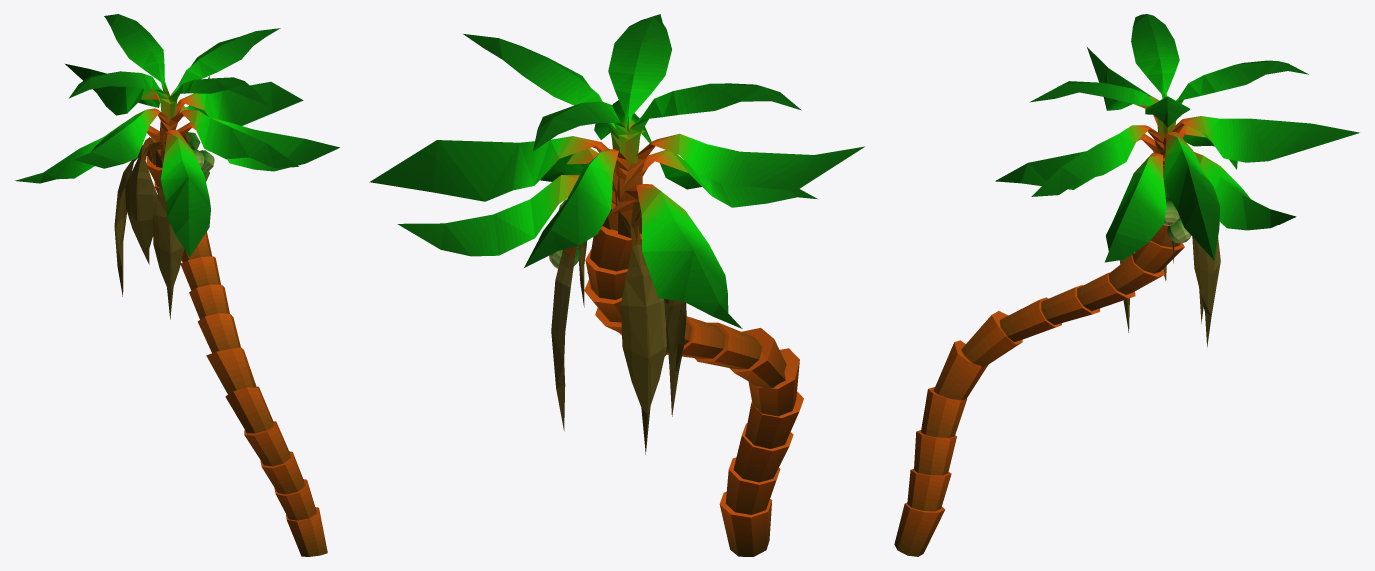
File: StrangeCoconutTreeCurved.fbx
3 views of the same model, side by side, from view 1: azimuth 30°, elevation 25°; view 2: azimuth 150°, elevation 25°; view 3: azimuth 270°, elevation 25° (orthographic). The views are drawn at different scales.
Visible parts, largest first — view 1: CurveCoconutLeave, CurveCoconutBark; view 2: CurveCoconutLeave, CurveCoconutBark; view 3: CurveCoconutLeave, CurveCoconutBark.
Part boxes in pixels (bbox=[...]): CurveCoconutLeave: bbox=[15, 14, 339, 319]; CurveCoconutBark: bbox=[146, 156, 327, 556]; CurveCoconutLeave: bbox=[369, 14, 864, 454]; CurveCoconutBark: bbox=[584, 226, 803, 556]; CurveCoconutLeave: bbox=[995, 14, 1359, 347]; CurveCoconutBark: bbox=[894, 217, 1184, 556].
Size of the model in its own units: 482 by 688 by 610.
Materials: 1 (1 with a texture image).
